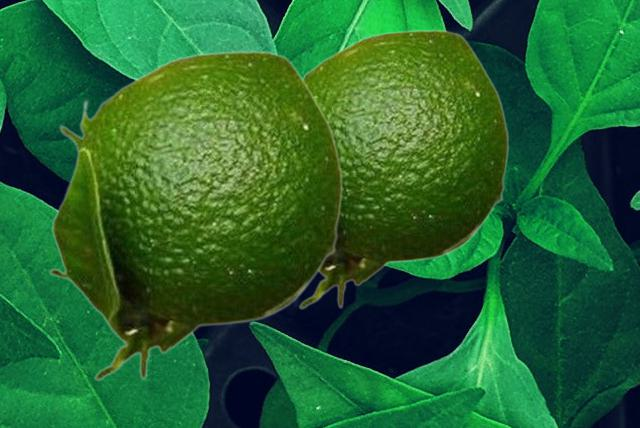dalandan: (47, 50, 342, 381), (298, 29, 508, 309)
